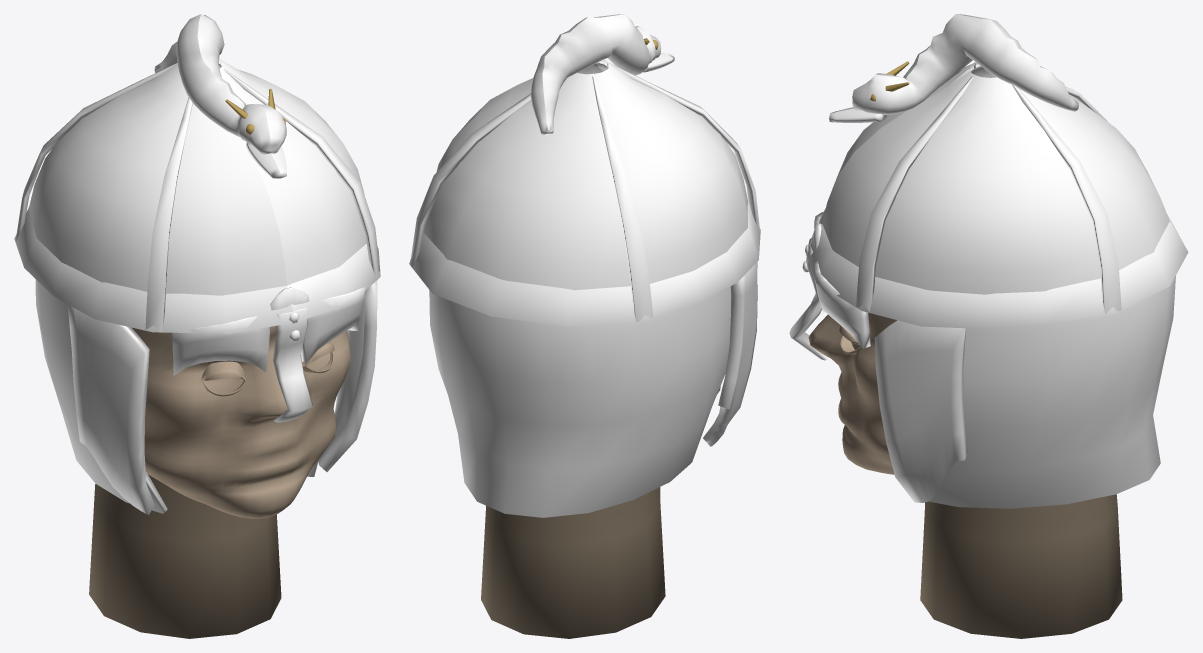
Rendered from helm-runekeeper-wyrm.glb.
3 renders of one model, left to right at view 1: azimuth 30°, elevation 25°; view 2: azimuth 150°, elevation 25°; view 3: azimuth 270°, elevation 25°, orthographic. The views are drawn at different scales.
Parts seen in each view (by area): view 1: helm-runekeeper-wyrm; view 2: helm-runekeeper-wyrm; view 3: helm-runekeeper-wyrm.
Boxes of the visible parts, x1=… form: helm-runekeeper-wyrm: x1=14, y1=14, x2=380, y2=638; helm-runekeeper-wyrm: x1=409, y1=14, x2=760, y2=638; helm-runekeeper-wyrm: x1=789, y1=14, x2=1188, y2=638.
Size of the model in its own units: 0.2323 by 0.4348 by 0.2709.
